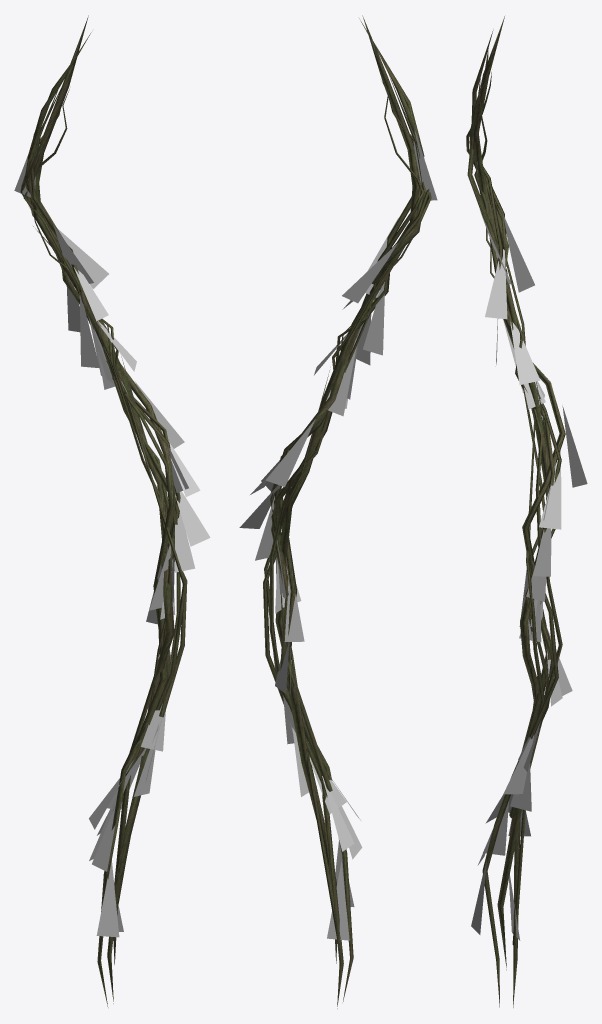
Rendered from Liana2_L4.fbx.
The picture shows the model from 3 angles, left to right: view 1: azimuth 30°, elevation 25°; view 2: azimuth 210°, elevation 25°; view 3: azimuth 330°, elevation 25°; orthographic projection.
Parts seen in each view (by area): view 1: polySurface43; view 2: polySurface43; view 3: polySurface43.
Part boxes in pixels (left/top/right/bottom): polySurface43: left=14, top=15, right=210, bottom=1007; polySurface43: left=239, top=15, right=437, bottom=1008; polySurface43: left=466, top=16, right=587, bottom=1007.
Size of the model in its own units: 214 by 1433 by 159.
